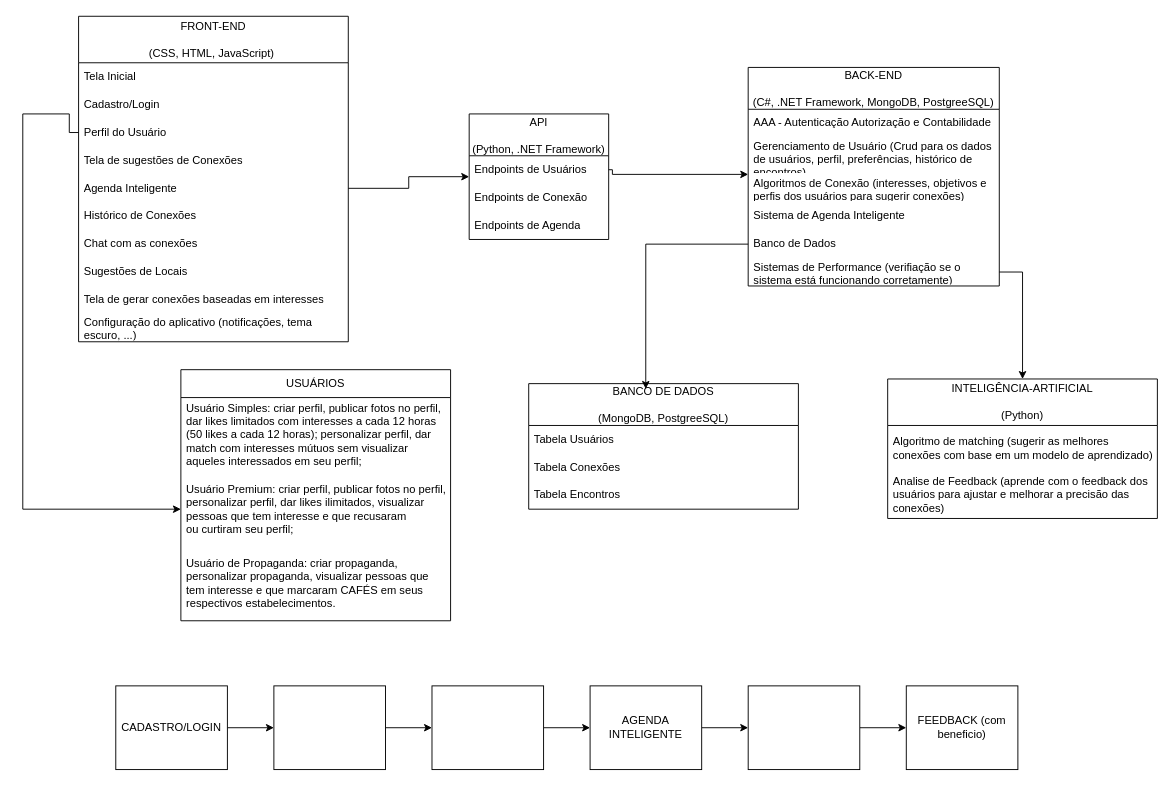
This 1174x786 diagram has some shape labels left out. Each missing label, with the centre of its shape:
"CONEXÕES PERSONALIZADAS (sugerida por IA com base no perfil do usuário)" belongs at point 487,727.
"CRIAÇÃO DE PERFIL" belongs at point 329,727.
"ENCONTRO (sugerindo cafés pelos patrocinadores)" belongs at point 803,727.
